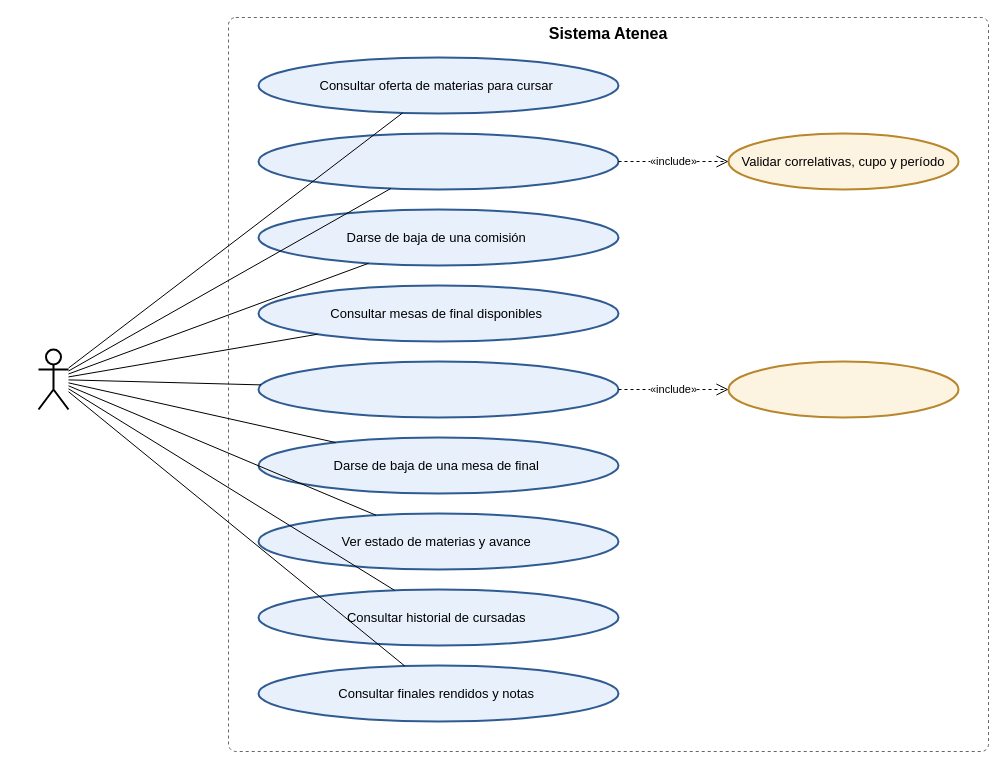
Image size: 1006x769. Some labels were removed from this diagram. Here are the shapes that lost their labels. From the top down, the centre of each, then its label:
the point at 438,161: Inscribirse a una comisión
the point at 53,379: Estudiante
the point at 438,389: Inscribirse a una mesa de final
the point at 843,389: Validar regularidad vigente
